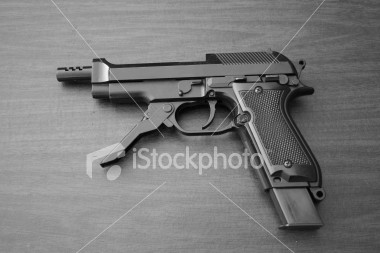pistol: (58, 36, 350, 238)
